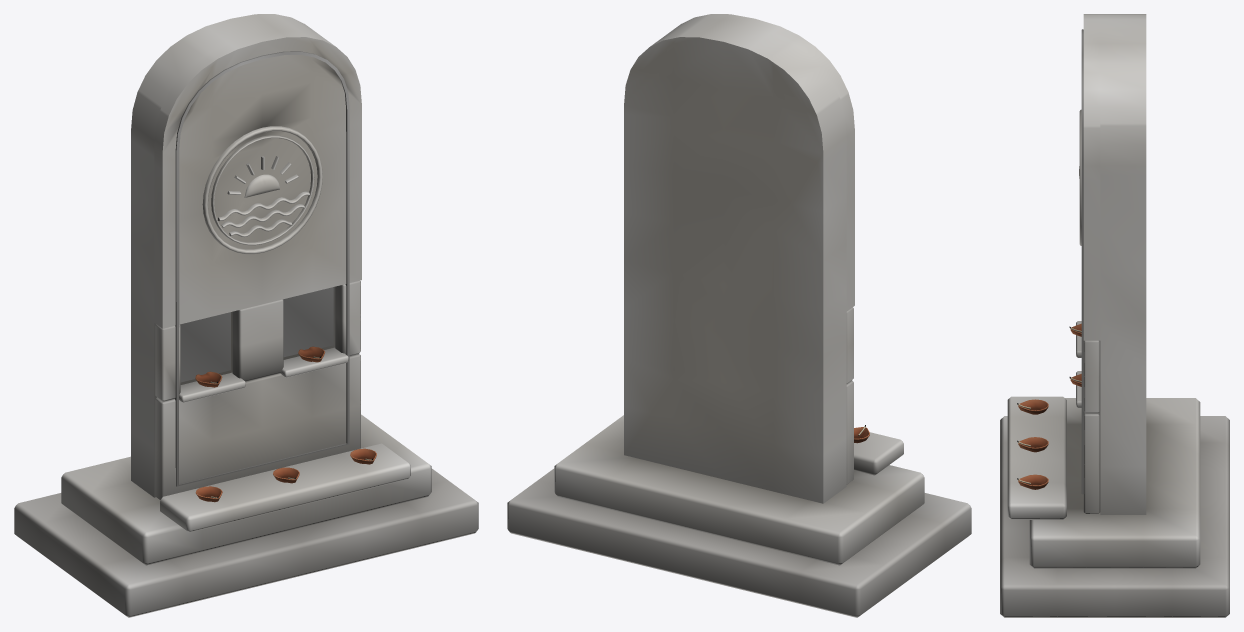
File: memorial-stele.4ca73e45.glb
3 renders of one model, left to right at view 1: azimuth 30°, elevation 25°; view 2: azimuth 150°, elevation 25°; view 3: azimuth 270°, elevation 25°, orthographic.
Visible parts, largest first — view 1: memorial_stele, lamps; view 2: memorial_stele; view 3: memorial_stele, lamps.
Part boxes in pixels (x1,y1,x2,y2): memorial_stele: (14, 14, 478, 617); lamps: (195, 346, 376, 502); memorial_stele: (507, 14, 971, 617); memorial_stele: (1000, 14, 1229, 617); lamps: (1017, 323, 1081, 489).
Size of the model in its own units: 1.1 by 1.5 by 0.62.
